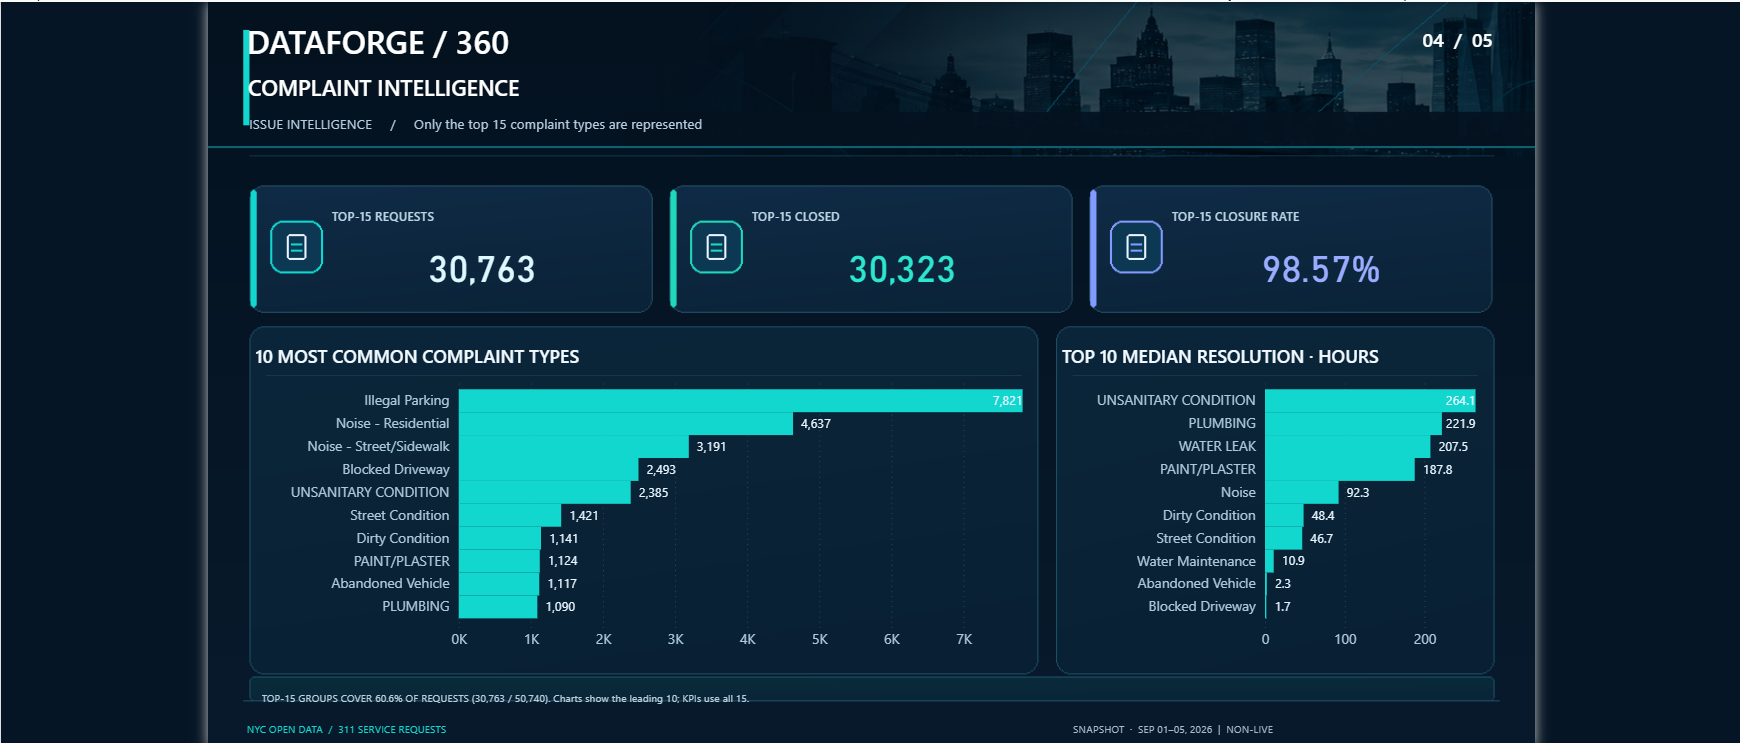

What the dashboard file says about the page in this screenshot:
{"tool":"powerbi","page":{"name":"Complaint Intelligence","canvas":[1280,720],"ordinal":3},"visuals":[{"type":"textbox","box":[37,17,700,45],"z":5},{"type":"textbox","box":[39,69,960,32],"z":6},{"type":"textbox","box":[40,108,1040,25],"z":7},{"type":"textbox","box":[1160,24,91,29],"z":8},{"type":"textbox","box":[37,691,570,23],"z":9},{"type":"textbox","box":[835,691,403,23],"z":10},{"type":"textbox","box":[120,197,293,27],"z":40},{"type":"textbox","box":[525,197,293,27],"z":41},{"type":"textbox","box":[930,197,293,27],"z":42},{"type":"card","fields":{"Values":["complaint.Complaint Requests"]},"box":[117,218,296,73],"z":50},{"type":"card","fields":{"Values":["complaint.Complaint Closed"]},"box":[522,218,296,73],"z":51},{"type":"card","fields":{"Values":["complaint.Complaint Closure Rate"]},"box":[927,218,296,73],"z":52},{"type":"barChart","title":"10 MOST COMMON COMPLAINT TYPES","fields":{"Category":["complaint.label"],"Y":["complaint.Complaint Requests"]},"box":[40,323,760,326],"z":92},{"type":"barChart","title":"TOP 10 MEDIAN RESOLUTION · HOURS","fields":{"Category":["complaint.label"],"Y":["complaint.Complaint Median Hours"]},"box":[818,323,422,326],"z":93},{"type":"textbox","box":[52,661,1160,20],"z":99}]}

Visuals, with their boxes on the page's 1280x720 design canvas (x1, y1, x2, y2). These are canvas units, not pixel positions in the 1740x743 screenshot, which may show the page scaled, cropped or inside an application window:
textbox: [left=37, top=17, right=737, bottom=62]
textbox: [left=39, top=69, right=999, bottom=101]
textbox: [left=40, top=108, right=1080, bottom=133]
textbox: [left=1160, top=24, right=1251, bottom=53]
textbox: [left=37, top=691, right=607, bottom=714]
textbox: [left=835, top=691, right=1238, bottom=714]
textbox: [left=120, top=197, right=413, bottom=224]
textbox: [left=525, top=197, right=818, bottom=224]
textbox: [left=930, top=197, right=1223, bottom=224]
card - complaint.Complaint Requests: [left=117, top=218, right=413, bottom=291]
card - complaint.Complaint Closed: [left=522, top=218, right=818, bottom=291]
card - complaint.Complaint Closure Rate: [left=927, top=218, right=1223, bottom=291]
"10 MOST COMMON COMPLAINT TYPES" barChart: [left=40, top=323, right=800, bottom=649]
"TOP 10 MEDIAN RESOLUTION · HOURS" barChart: [left=818, top=323, right=1240, bottom=649]
textbox: [left=52, top=661, right=1212, bottom=681]
